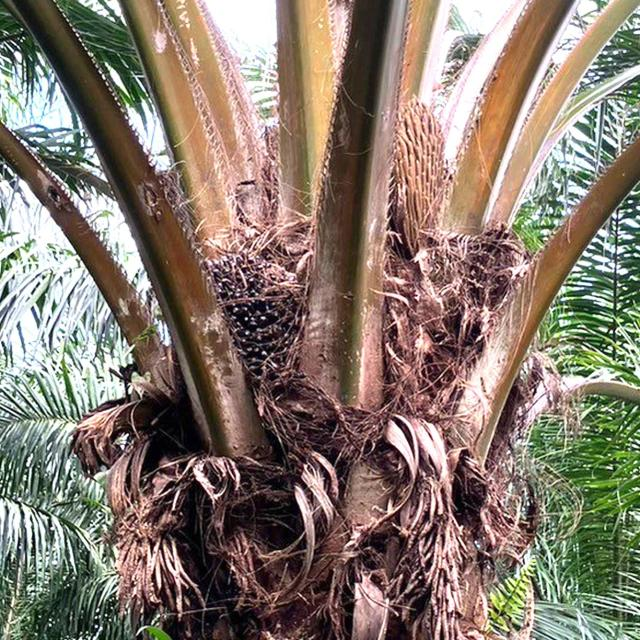almost: (193, 240, 308, 408)
